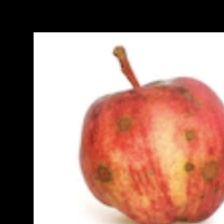apple: (40, 50, 224, 194)
